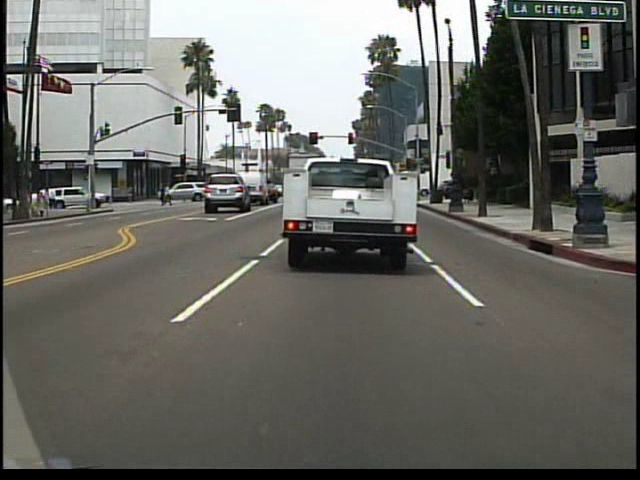person: (46, 184, 59, 214)
